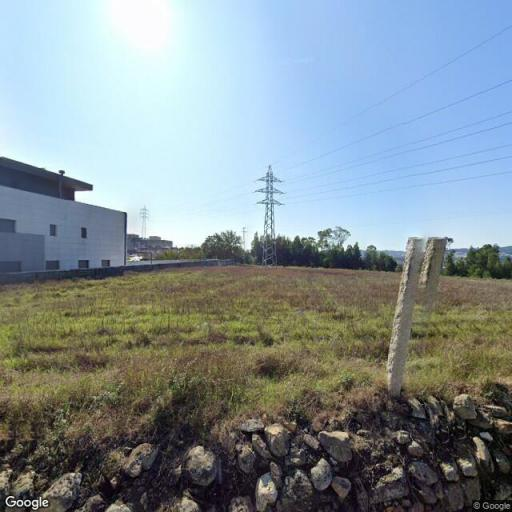ss_3: (253, 166, 285, 270), (138, 200, 148, 236)
